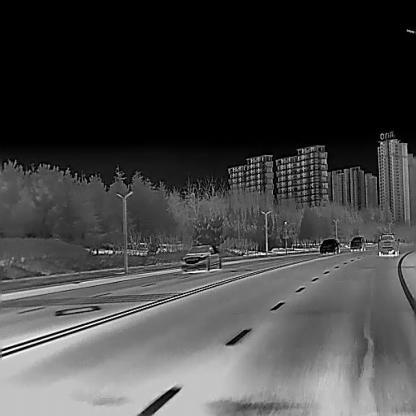car: (180, 243, 221, 272), (377, 232, 400, 256), (318, 237, 340, 255), (349, 235, 366, 251)
